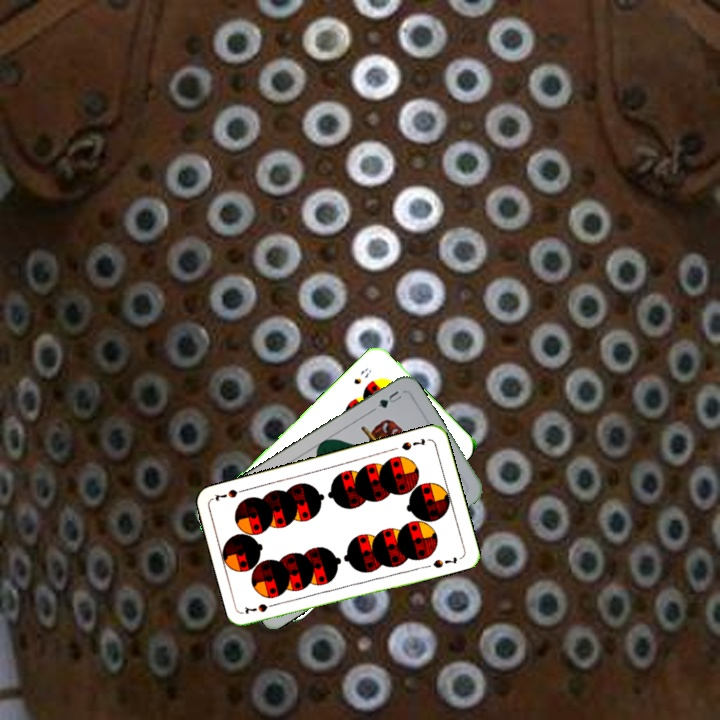GU: (374, 386, 404, 411)
S7: (241, 599, 281, 617), (397, 434, 428, 453)
S8: (349, 363, 374, 387)
